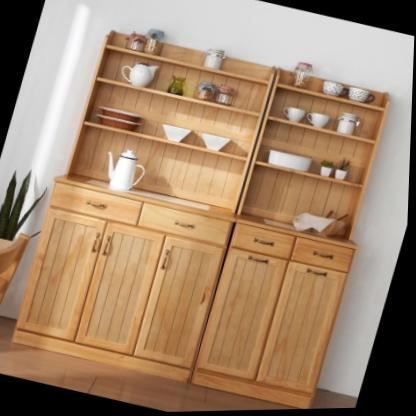Cupboard: (15, 33, 390, 410)
Wooden floor: (0, 319, 290, 413)
